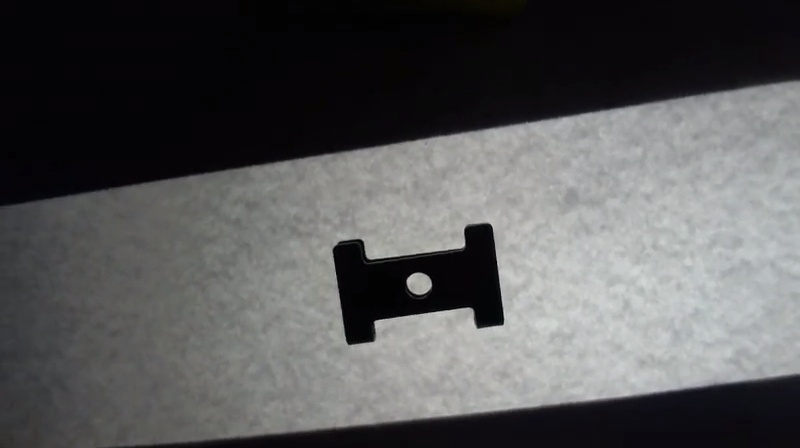O002: (328, 218, 507, 347)
